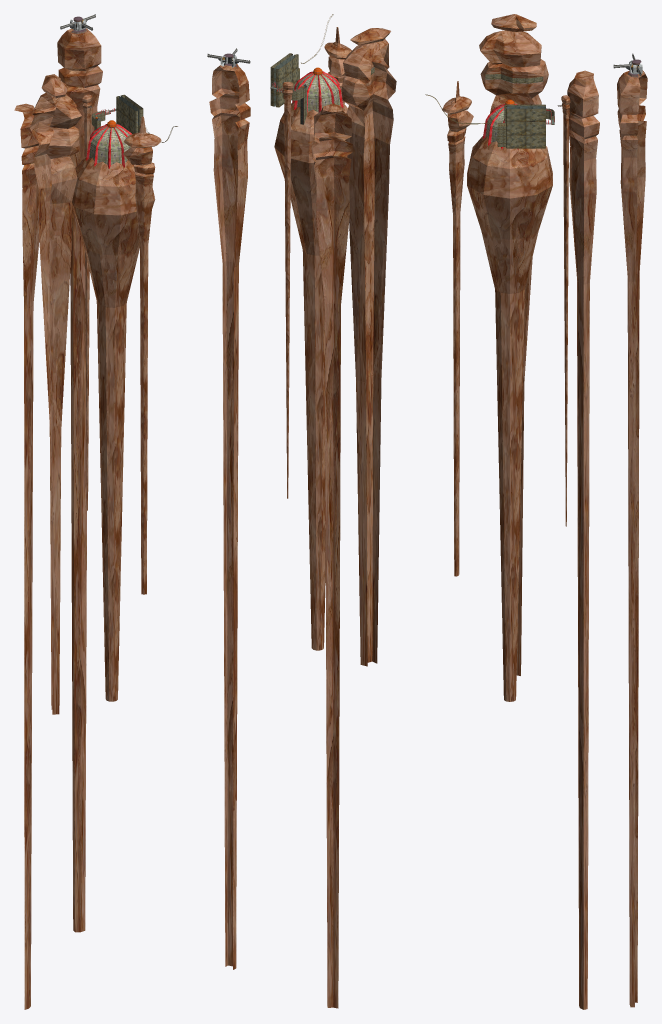
Rendered from STG08_ON_02.obj.
The picture shows the model from 3 angles, left to right: view 1: azimuth 30°, elevation 25°; view 2: azimuth 150°, elevation 25°; view 3: azimuth 270°, elevation 25°; orthographic projection. The views are drawn at different scales.
Visible parts, largest first — view 1: Object_2; view 2: Object_2; view 3: Object_2.
Boxes of the visible parts, x1=… form: Object_2: x1=14, y1=14, x2=177, y2=1009; Object_2: x1=207, y1=14, x2=396, y2=1008; Object_2: x1=425, y1=14, x2=647, y2=1009.
Size of the model in its own units: 6504 by 50282 by 10244.
